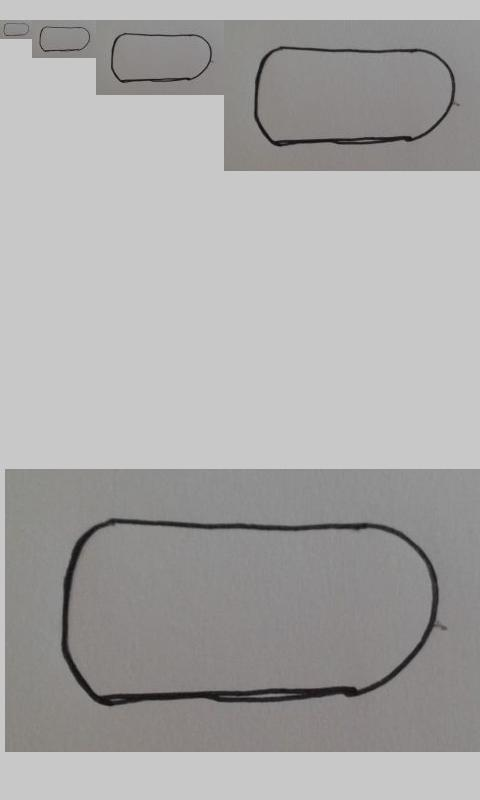chip: (59, 518, 440, 704), (254, 46, 456, 146), (111, 33, 213, 84), (39, 25, 91, 52), (3, 22, 30, 37)
